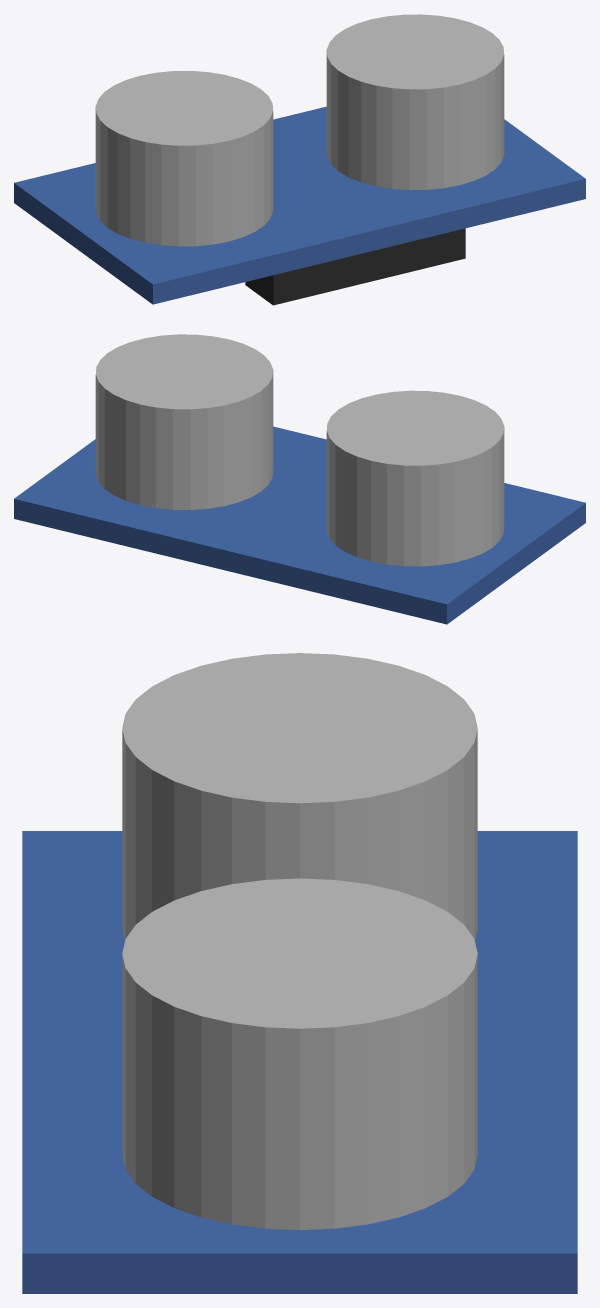
File: hcsr04.glb
3 renders of one model, top to bottom at view 1: azimuth 30°, elevation 25°; view 2: azimuth 150°, elevation 25°; view 3: azimuth 270°, elevation 25°, orthographic. The views are drawn at different scales.
Visible parts, largest first — view 1: geometry_0, geometry_2, geometry_1, geometry_3; view 2: geometry_0, geometry_1, geometry_2; view 3: geometry_0, geometry_2, geometry_1.
Boxes of the visible parts, box(x1,y1,x2,y2) form: geometry_0: box(14, 106, 585, 304); geometry_2: box(326, 14, 504, 189); geometry_1: box(95, 71, 273, 246); geometry_3: box(245, 228, 465, 305); geometry_0: box(14, 426, 585, 624); geometry_1: box(326, 390, 504, 566); geometry_2: box(95, 334, 273, 509); geometry_0: box(22, 831, 577, 1293); geometry_2: box(122, 878, 477, 1230); geometry_1: box(122, 653, 477, 940).
Size of the model in its own units: 4.5 by 1.5 by 2.5.
